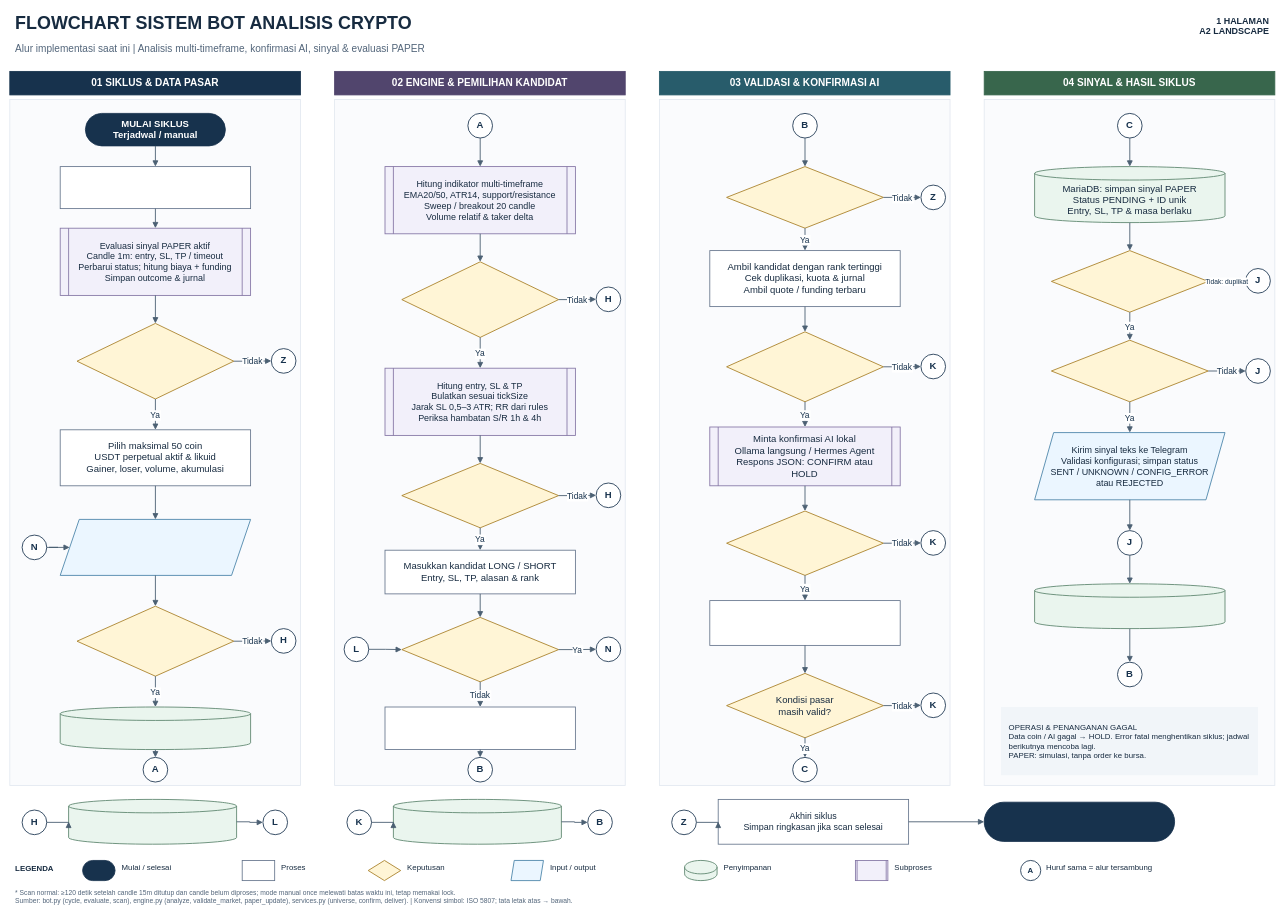
Image size: 1285x919. Some labels were removed from this diagram. The shapes that lost their labels are listed below. From the top down, each one's centre as x and y in pixels, then its label:
At pixel 155 187: "Mulai workflow Prefect Konfigurasi, rules & koneksi layanan".
At pixel 805 197: "Masih ada kandidat belum diproses?".
At pixel 480 299: "Tren, pemicu & tekanan transaksi mendukung arah?".
At pixel 1129 281: "Sinyal baru berhasil disimpan?".
At pixel 155 361: "Lock scan tersedia & candle 15m baru siap diproses?*".
At pixel 805 366: "Batas sinyal, jurnal & filter pasar lolos?".
At pixel 1129 371: "Telegram aktif?".
At pixel 480 495: "Harga & ruang risiko/target valid?".
At pixel 155 547: "Ambil coin berikutnya Candle 15m / 1h / 4h + tickSize Sumber: Binance Futures".
At pixel 805 543: "AI mengembalikan CONFIRM yang valid?".
At pixel 804 623: "Ambil ulang quote & funding Validasi kondisi pasar setelah AI".
At pixel 1129 606: "MariaDB Simpan hasil analisis kandidat".
At pixel 155 641: "Candle valid, urut & terbaru? Minimal 60 per TF".
At pixel 480 649: "Masih ada coin belum dianalisis?".
At pixel 155 728: "MariaDB Simpan candle tervalidasi".
At pixel 480 728: "Urutkan kandidat menurut rank Volume relatif × |taker imbalance|".
At pixel 152 821: "Simpan HOLD + alasan Lanjut pemeriksaan sisa coin".
At pixel 477 821: "HOLD + alasan penolakan Simpan analisis kandidat".
At pixel 1079 822: "SIKLUS SELESAI Tunggu jadwal berikutnya".
